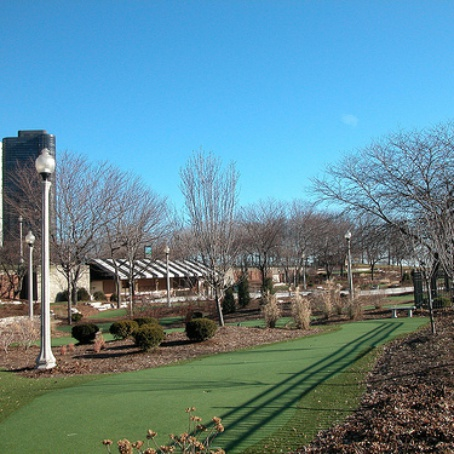building: (2, 132, 55, 247)
light pole: (22, 145, 79, 372), (18, 226, 40, 323)
sky: (1, 1, 443, 197)
tree: (333, 140, 454, 288), (24, 163, 125, 318), (173, 150, 243, 327), (94, 167, 171, 325)
vegetation: (75, 272, 357, 355)
